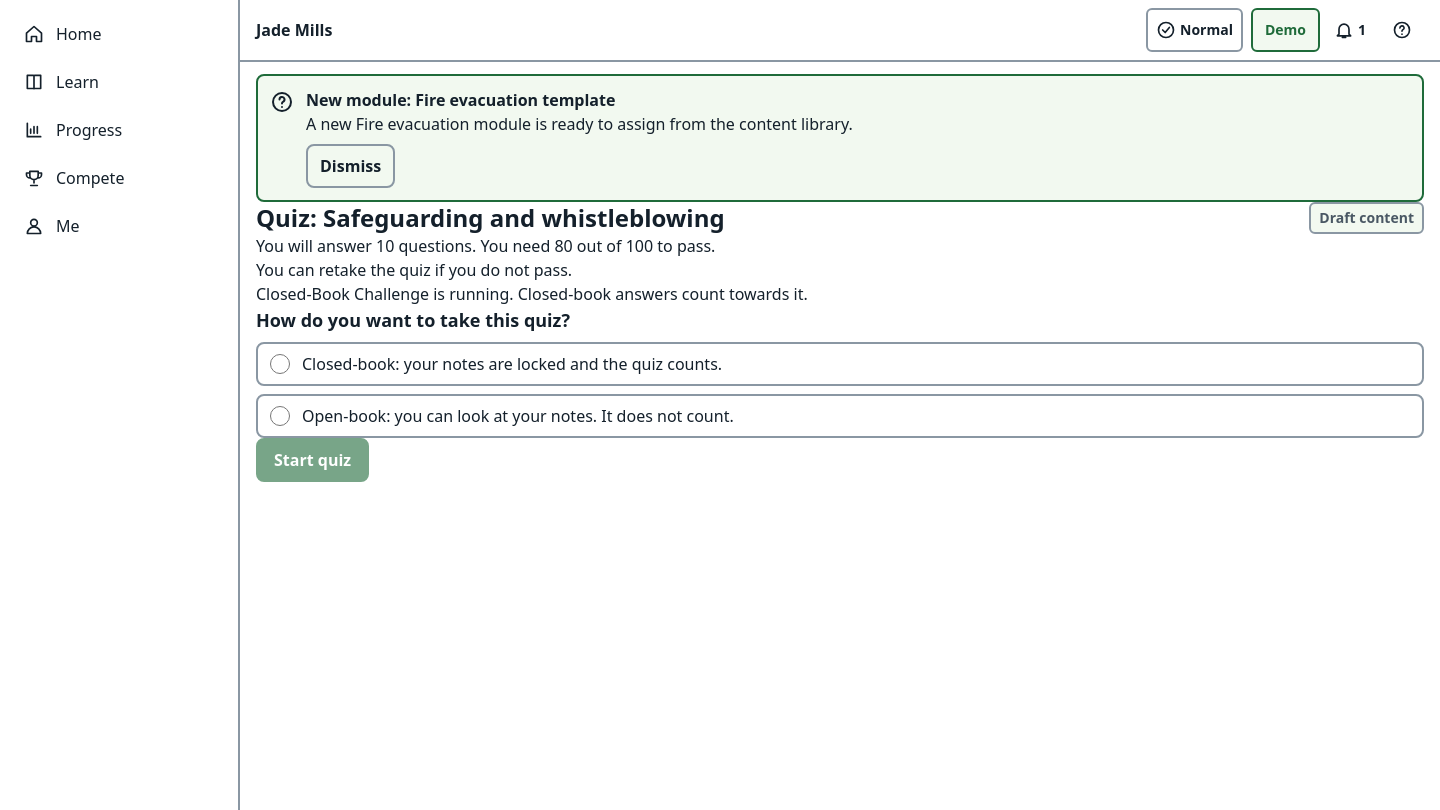
S6 closed-book choice and locked mode › choosing Closed-book stores a closed attempt and replaces the notes control with a locked indicator
This screenshot has width=1440, height=810.
Click the radio button labelled "Closed-book: your notes are locked and the quiz counts.". click: (280, 364)
box: [270, 354, 290, 374]
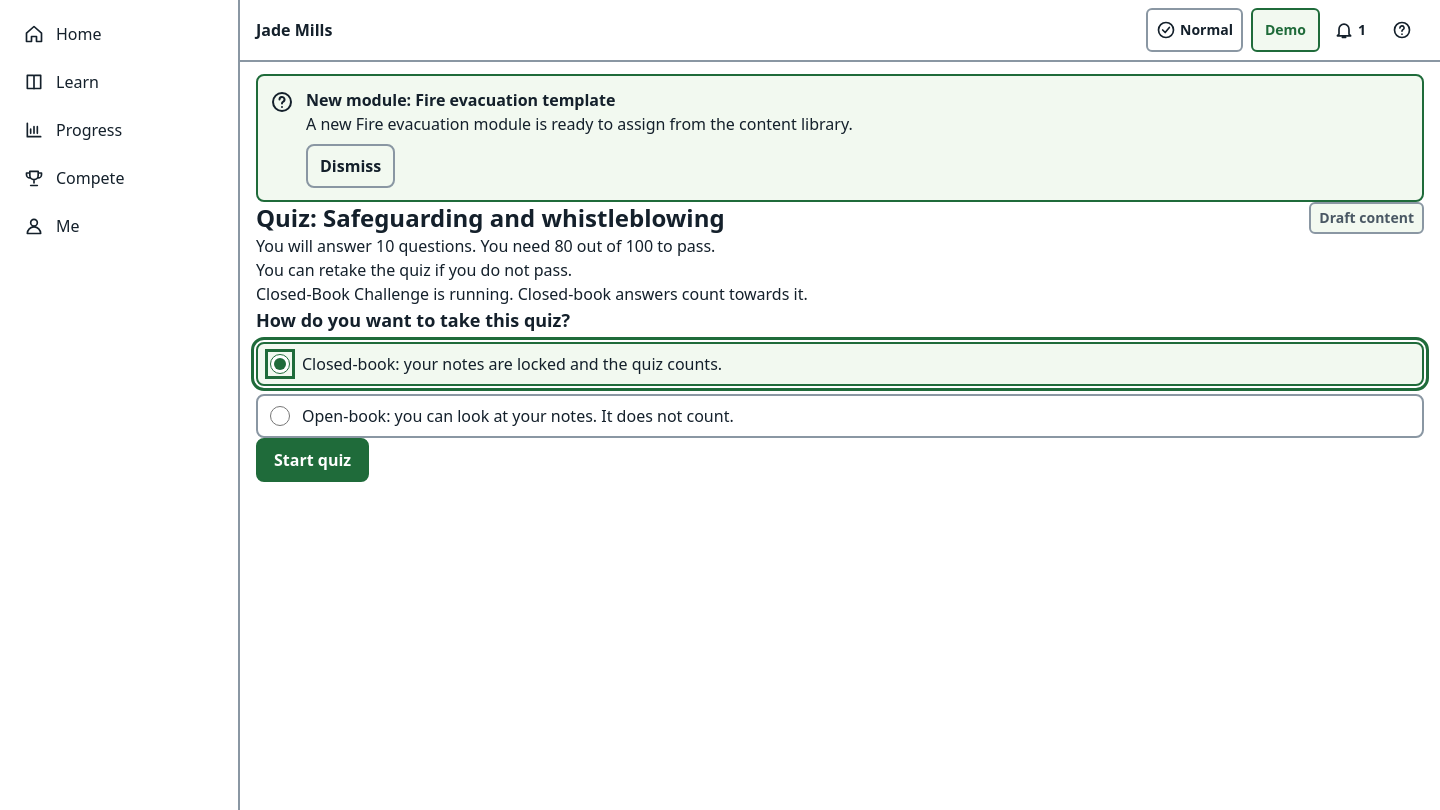
Click the button "Start quiz". click: (313, 460)
box: [256, 438, 369, 482]
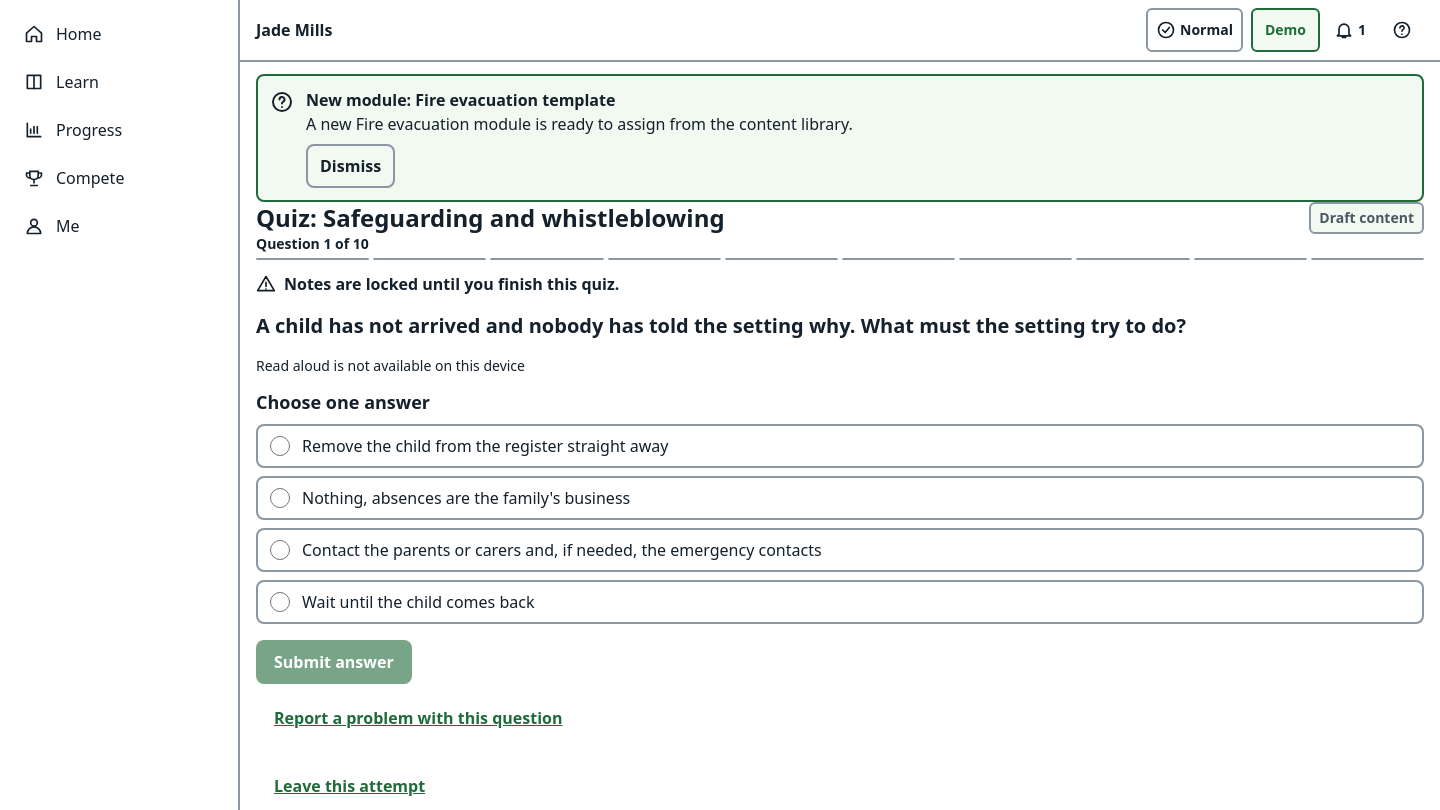
Check: the heading with test id "question-prompt" is shown, box [256, 312, 1186, 339]
Check: the element with test id "notes-locked" shows "locked", box [284, 273, 619, 295]
